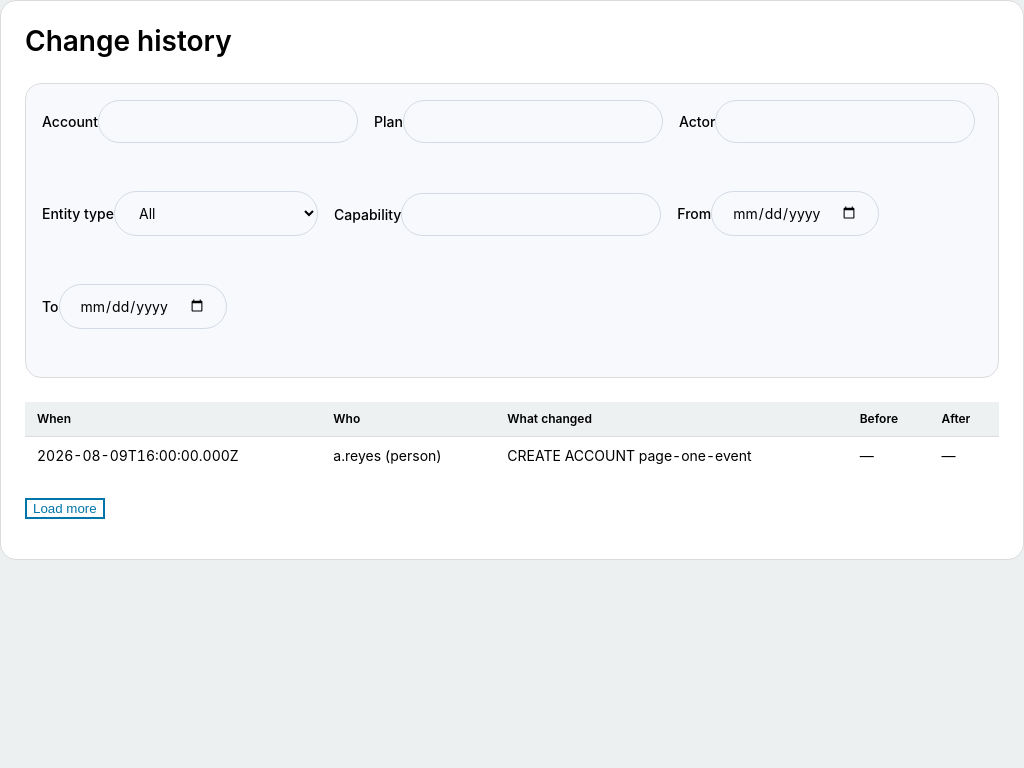
Test: HistoryRoute › appends the next page to the rows already on screen
The image size is (1024, 768).
Expected: the text "CREATE ACCOUNT page-one-event" is shown, [495,436,848,474]
Expected: the text "page-two-event" is not shown
Click the button "Load more": (65, 508) [25,498,105,519]
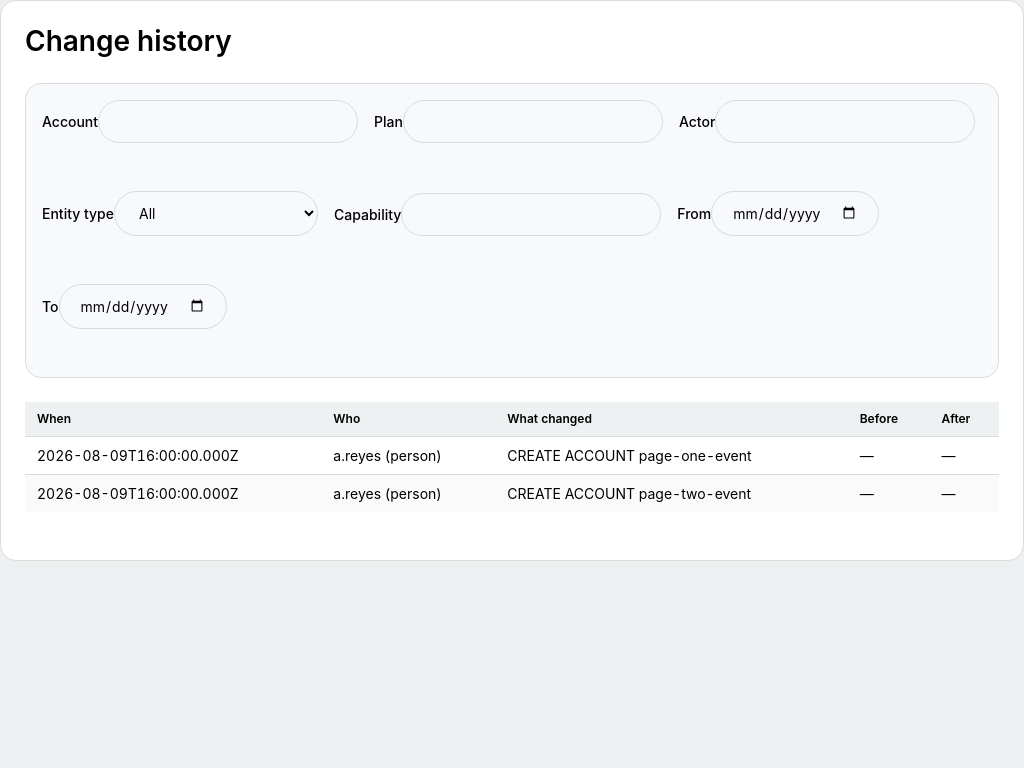
Expected: the text "CREATE ACCOUNT page-one-event" is shown, [495,436,848,474]
Expected: the text "CREATE ACCOUNT page-two-event" is shown, [495,474,848,512]
Expected: the button "Load more" is gone
